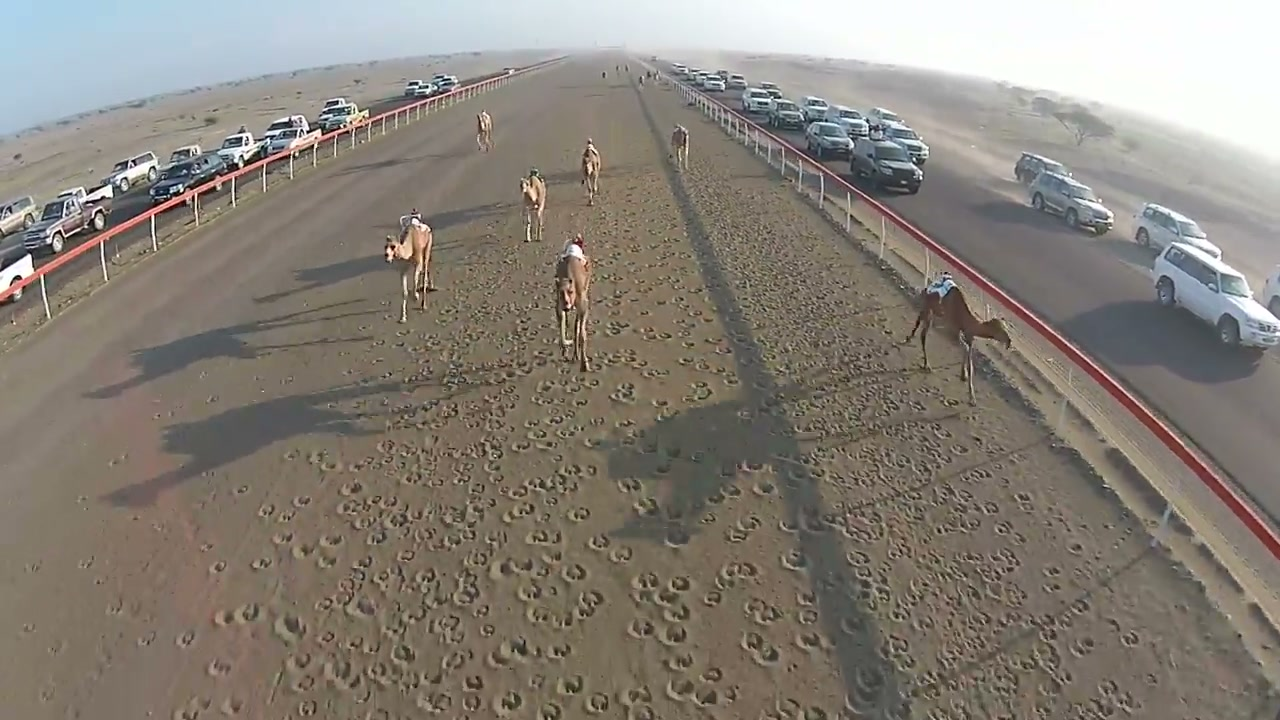animal_foot_print: (13, 92, 1262, 719), (671, 147, 1247, 716)
